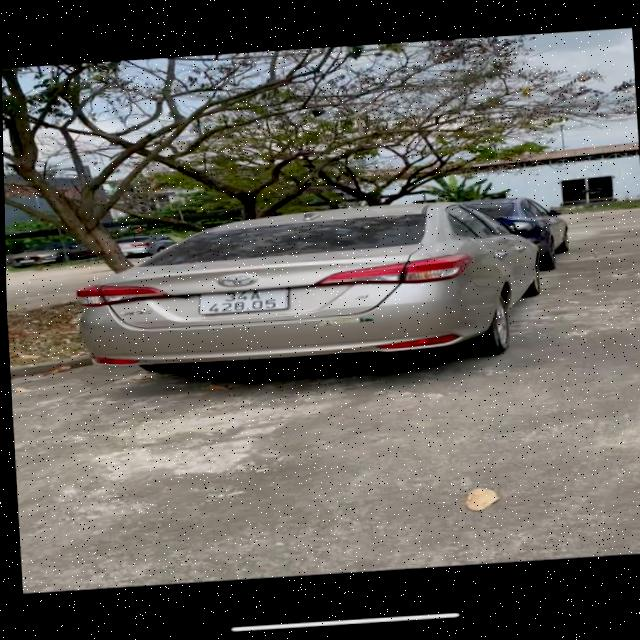car: (82, 185, 553, 395)
plate: (189, 278, 297, 326)
